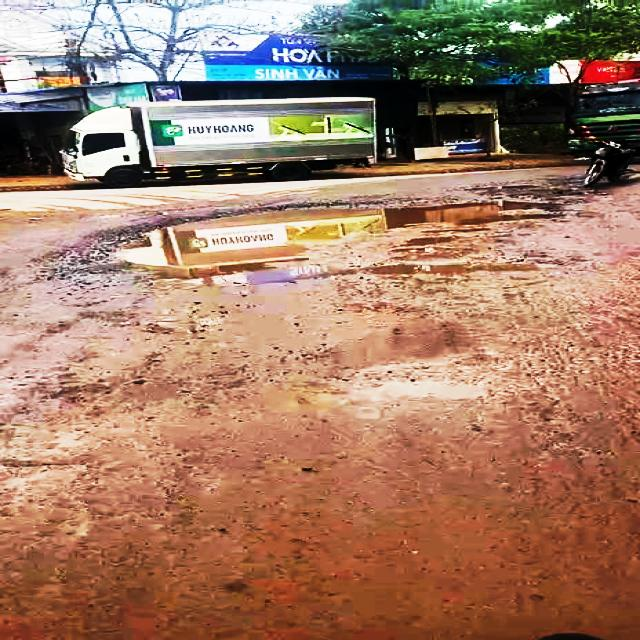pothole: (87, 200, 572, 285)
